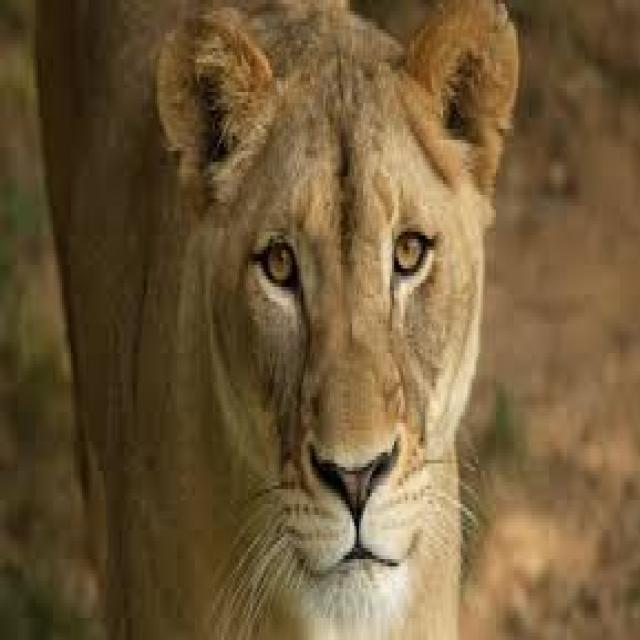Lion: (34, 0, 523, 635)
